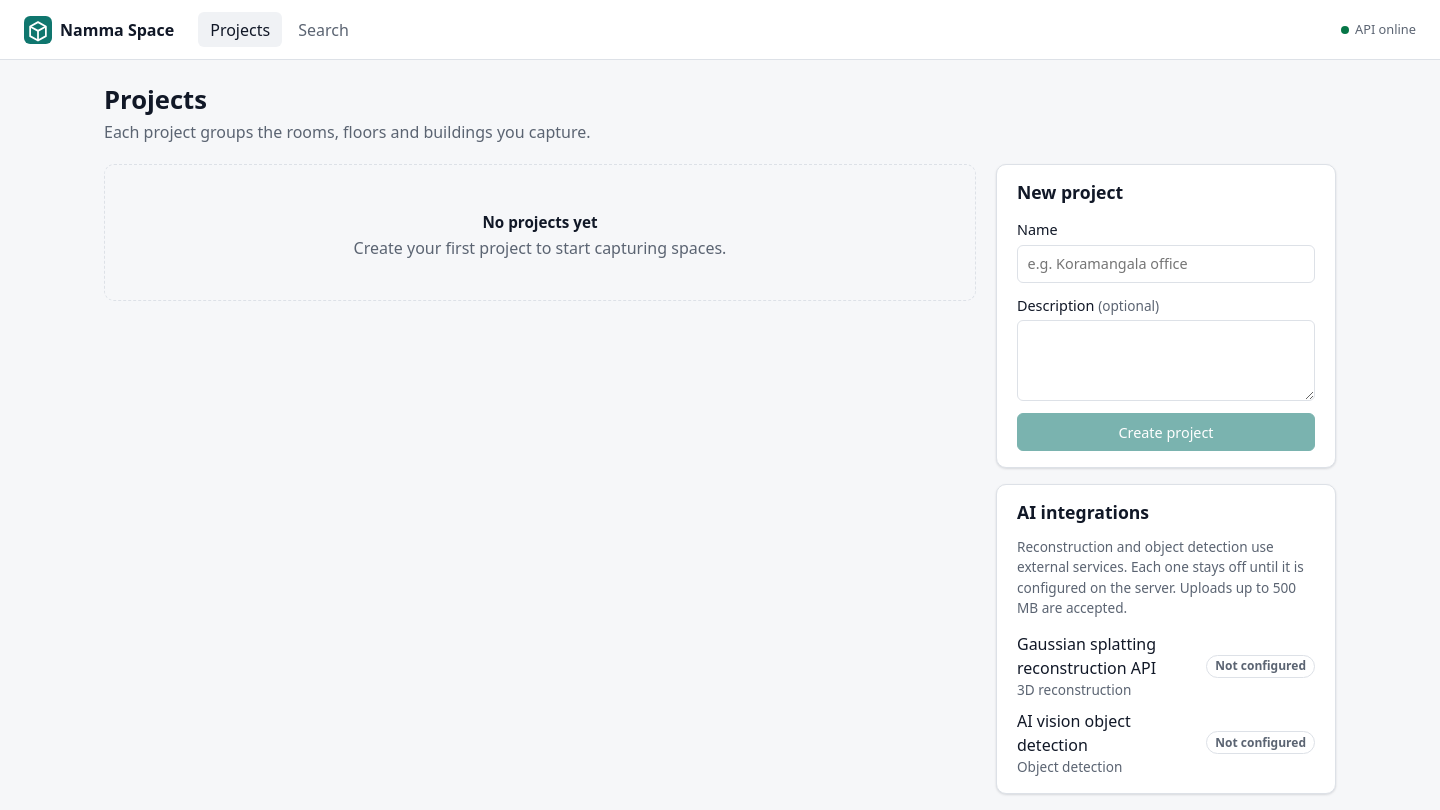
ProjectsPage › creates a project and navigates to it
The width and height of the screenshot is (1440, 810).
In the field labelled "Name": (1166, 264) [1017,245,1315,283], type "New HQ"
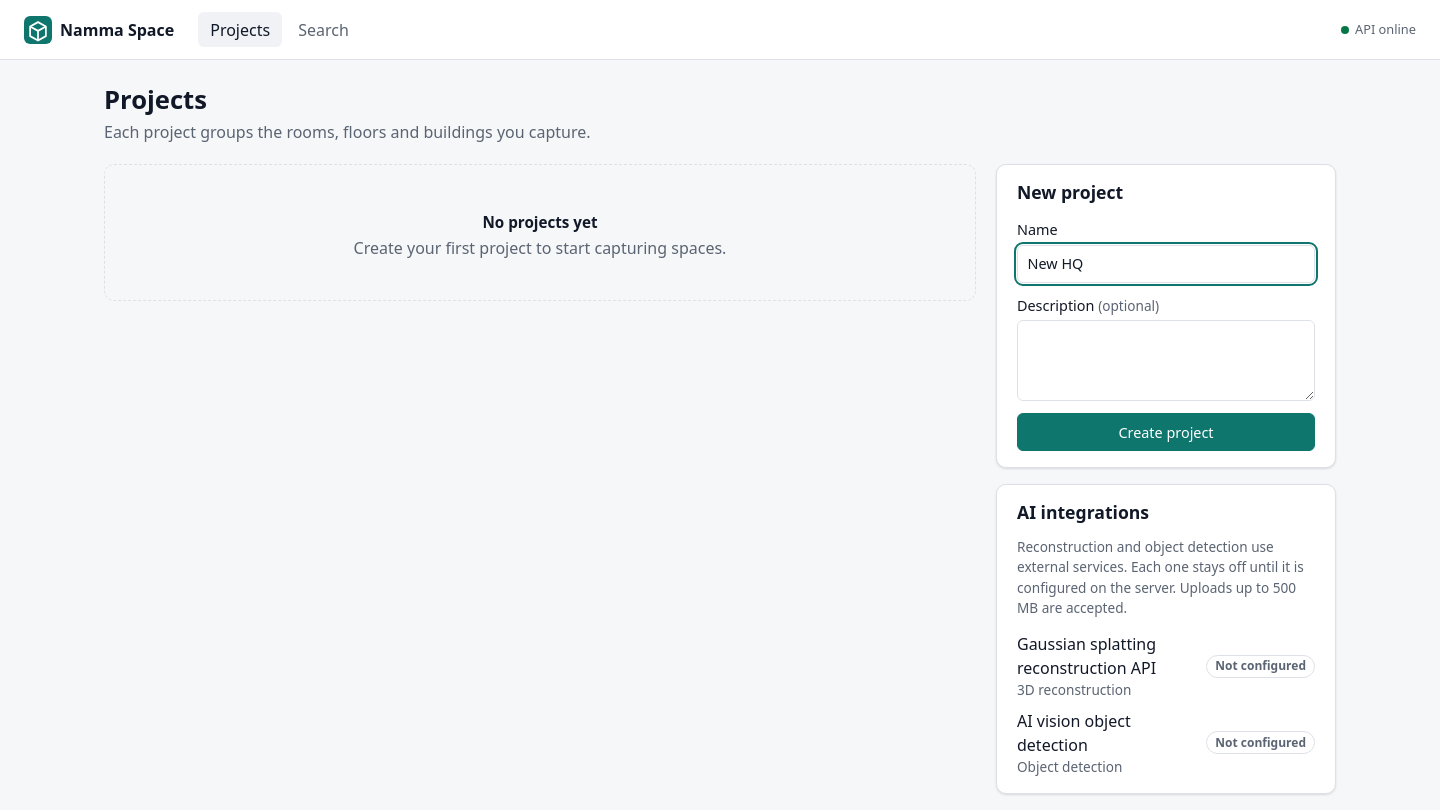
Click the button "Create project": (1166, 432) [1017,413,1315,451]
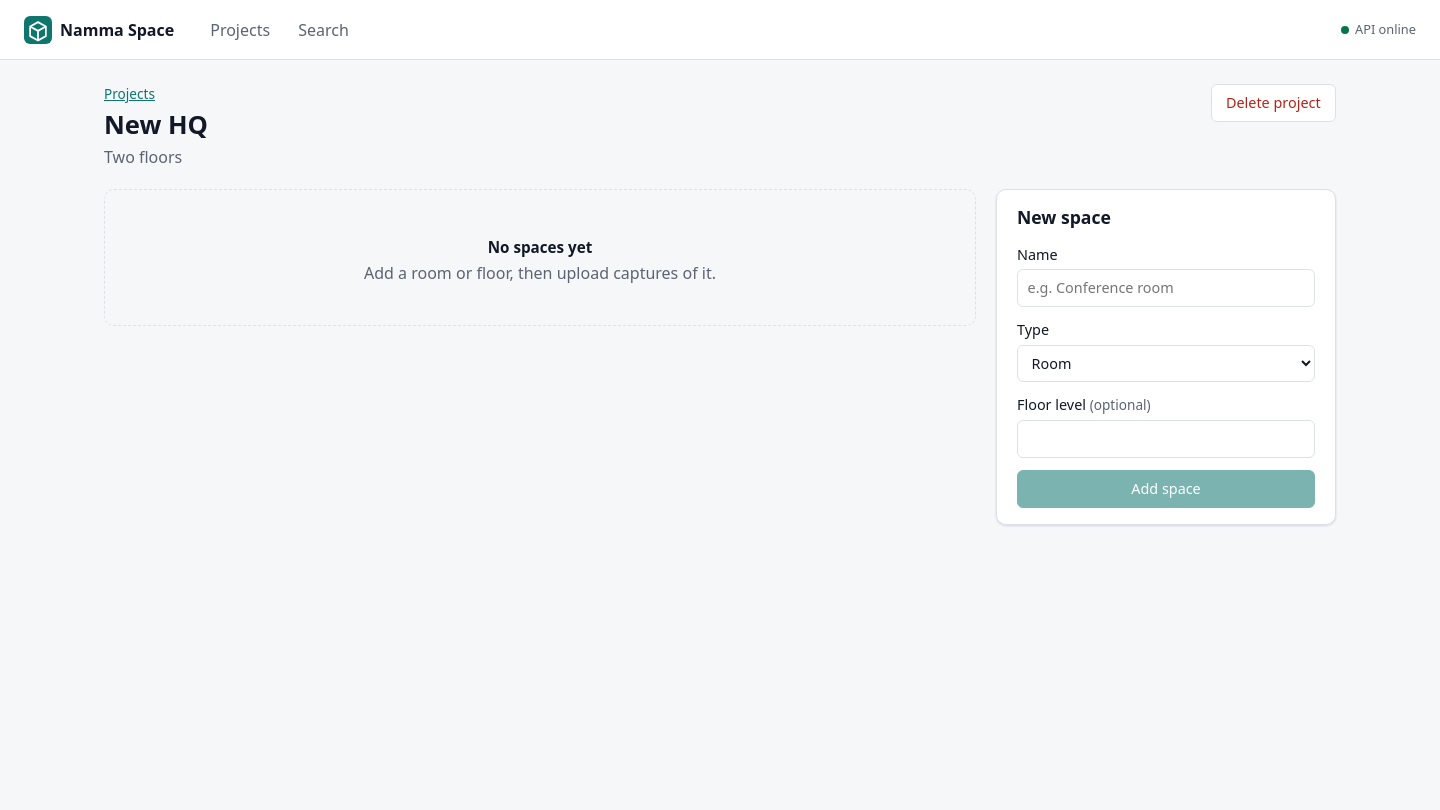
Expected: the heading "New HQ" is shown, [104,109,208,141]
